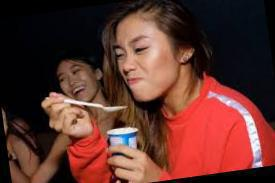Drunk: (115, 20, 173, 101), (56, 60, 97, 102)
